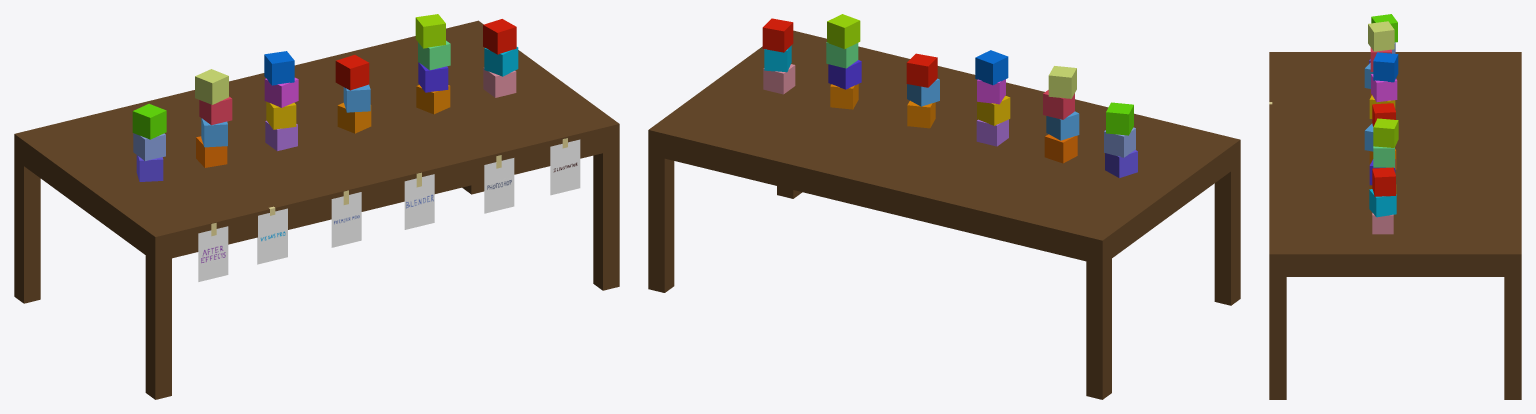
The model's file is Other Programs Table.gltf.
The picture shows the model from 3 angles, left to right: view 1: azimuth 30°, elevation 25°; view 2: azimuth 150°, elevation 25°; view 3: azimuth 270°, elevation 25°; orthographic projection. The views are drawn at different scales.
Visible parts, largest first — view 1: Table, Java Script Paper, Python Paper, C# Paper, HTML Paper, Java Paper.001, Java Paper, Lime Cube.001, Red Cube.001, Light Bogey Cube.001, Red Cube, Blue Cube (+16 smaller); view 2: Table, Blue Cube, Lime Green Cube, Red Cube, Red Cube.001, Light Bogey Cube.001, Lime Cube.001, Orange Cube, Purple Cube.001, Light Blue Cube', Yellow Cube, Light Pink Cube (+10 smaller); view 3: Table, Light Bogey Cube.001, Blue Cube, Lime Green Cube, Red Cube, Sky Blue Cube, Pink Cube, Teal Cube, Light Pink Cube, Red Cube.001, Lime Cube.001, Light Blue Cube'.001.
Boxes of the visible parts, box(x1,y1,x2,y2) form: Table: box(14, 20, 619, 399); Java Script Paper: box(198, 226, 228, 281); Python Paper: box(550, 139, 580, 195); C# Paper: box(484, 158, 514, 213); HTML Paper: box(257, 208, 287, 264); Java Paper.001: box(404, 174, 434, 229); Java Paper: box(331, 192, 361, 247); Lime Cube.001: box(132, 103, 166, 139); Red Cube.001: box(335, 55, 369, 90); Light Bogey Cube.001: box(195, 69, 228, 104); Red Cube: box(483, 19, 516, 54); Blue Cube: box(264, 51, 294, 85); Table: box(648, 30, 1240, 399); Blue Cube: box(975, 50, 1008, 85); Lime Green Cube: box(827, 14, 860, 49); Red Cube: box(762, 18, 793, 52); Red Cube.001: box(906, 53, 937, 87); Light Bogey Cube.001: box(1048, 66, 1076, 98); Lime Cube.001: box(1106, 102, 1133, 135); Orange Cube: box(1044, 134, 1077, 163); Purple Cube.001: box(828, 60, 861, 89); Light Blue Cube': box(1046, 111, 1079, 140); Yellow Cube: box(977, 95, 1010, 125); Light Pink Cube: box(763, 64, 795, 94); Table: box(1269, 52, 1521, 399); Light Bogey Cube.001: box(1368, 21, 1394, 51); Blue Cube: box(1373, 52, 1398, 82); Lime Green Cube: box(1373, 118, 1398, 147); Red Cube: box(1372, 167, 1395, 196); Sky Blue Cube: box(1369, 189, 1396, 217); Pink Cube: box(1371, 74, 1397, 102); Teal Cube: box(1373, 146, 1394, 167); Light Pink Cube: box(1372, 213, 1393, 234); Red Cube.001: box(1372, 103, 1395, 126); Lime Cube.001: box(1371, 14, 1397, 42); Light Blue Cube'.001: box(1364, 123, 1373, 151).
Bounding box in the file's own units: 4.08 × 2.09 × 2.15.
34 materials, 6 textured.
